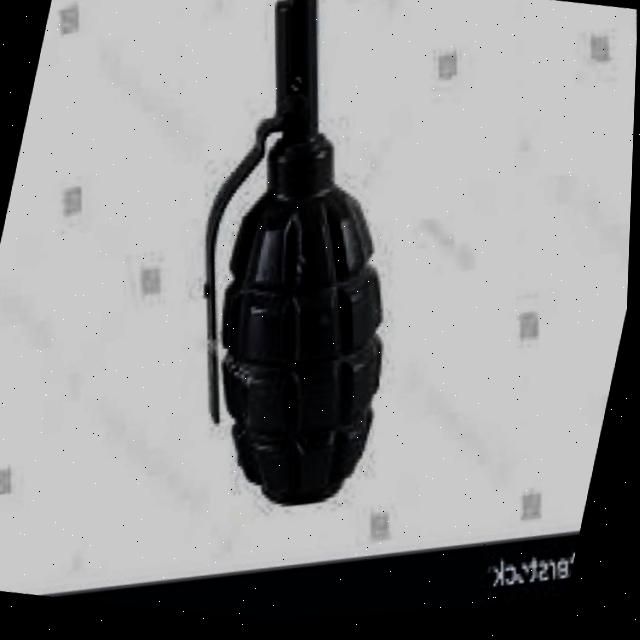grenade: (89, 0, 502, 564)
